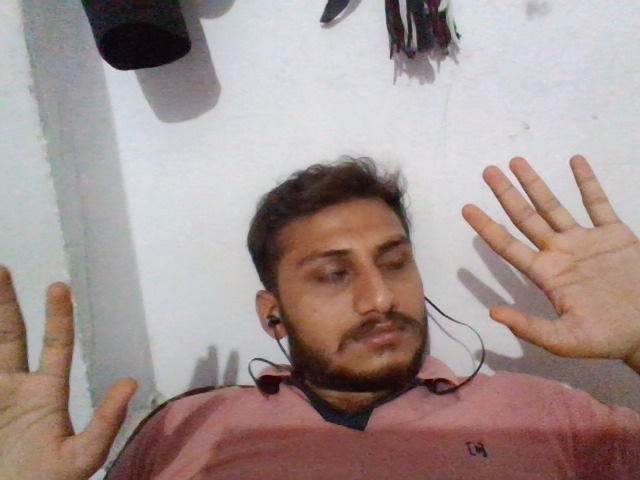Hello: (458, 125, 640, 360)
